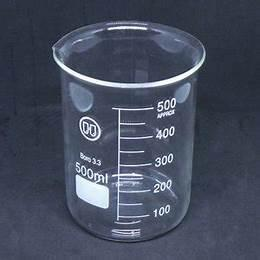Beaker: (47, 20, 205, 244)
